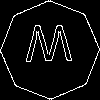W: (25, 25, 73, 71)
